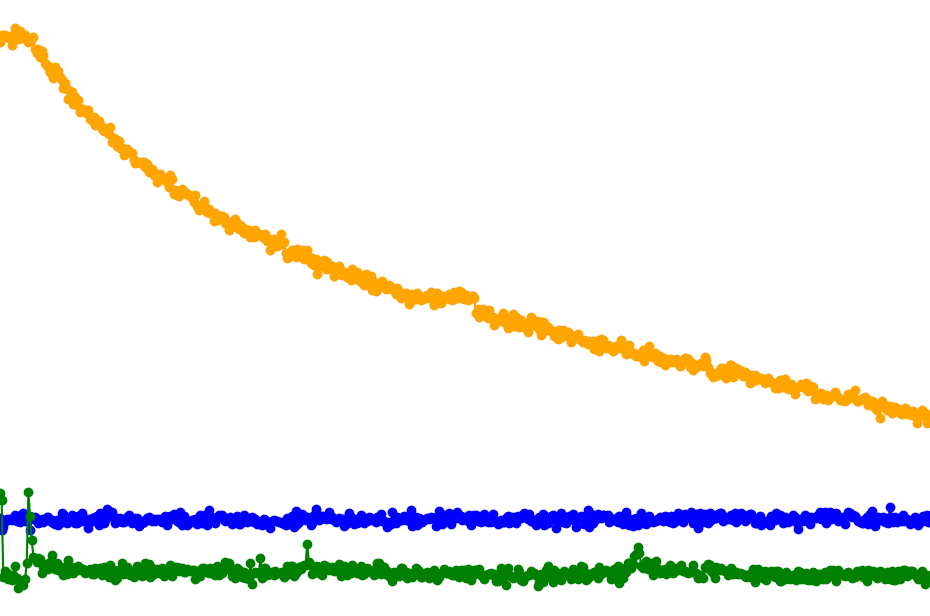CO2 Problem: (320, 0, 601, 616), (801, 0, 930, 616), (681, 0, 801, 616), (0, 0, 80, 616), (80, 0, 160, 616), (160, 0, 240, 616), (240, 0, 320, 616), (601, 0, 681, 616)
Condensation (CO2): (801, 0, 930, 616), (681, 0, 801, 616), (80, 0, 160, 616), (160, 0, 240, 616), (601, 0, 681, 616)
Condensation (O2): (681, 0, 801, 616), (601, 0, 681, 616)
High CO2: (320, 0, 561, 616), (801, 0, 930, 616), (0, 0, 80, 616), (80, 0, 160, 616), (160, 0, 240, 616), (240, 0, 320, 616)
High O2: (320, 0, 681, 616), (801, 0, 930, 616), (681, 0, 801, 616)
Low CO2: (320, 0, 681, 616), (681, 0, 801, 616), (601, 0, 681, 616)
Low O2: (681, 0, 930, 616), (801, 0, 930, 616)
Normal: (80, 0, 681, 616), (320, 0, 681, 616), (320, 0, 641, 616), (320, 0, 601, 616), (681, 0, 930, 616), (320, 0, 561, 616), (80, 0, 320, 616), (160, 0, 320, 616), (801, 0, 930, 616), (681, 0, 801, 616), (0, 0, 80, 616), (80, 0, 160, 616), (160, 0, 240, 616), (240, 0, 320, 616), (601, 0, 681, 616), (681, 0, 761, 616)
O2 Problem: (801, 0, 930, 616), (681, 0, 801, 616)
